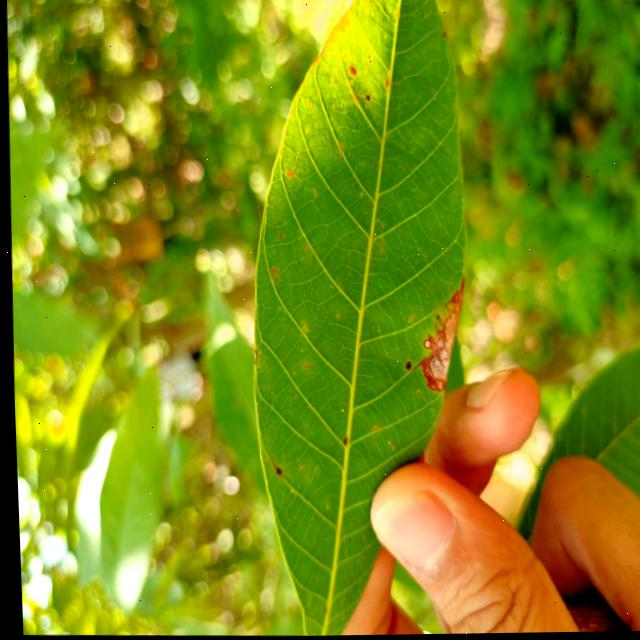Colletotrichum: (401, 363, 407, 371), (364, 96, 368, 102)
Leaf-Blight: (414, 277, 464, 392)
